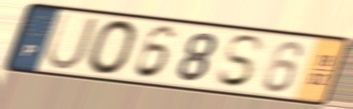6: (132, 23, 179, 81), (262, 38, 305, 94)
8: (177, 31, 219, 82)
O: (84, 18, 140, 77)
S: (214, 34, 267, 90)
U: (43, 12, 101, 72)
